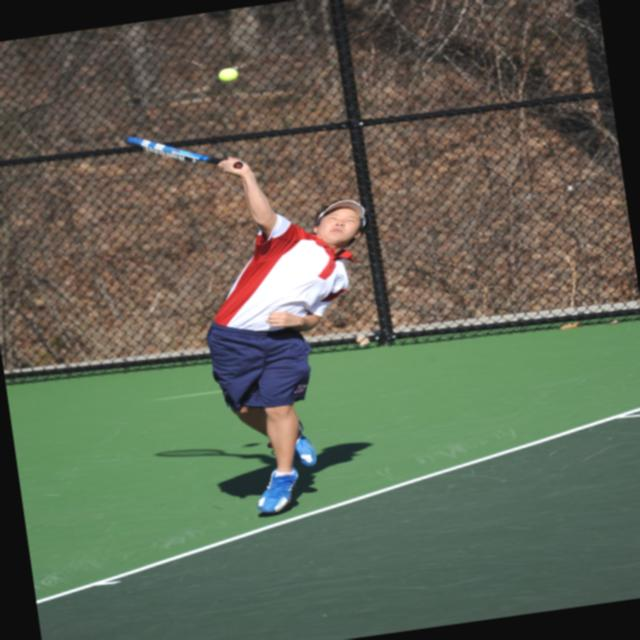Tennis Ball: (214, 64, 242, 84)
